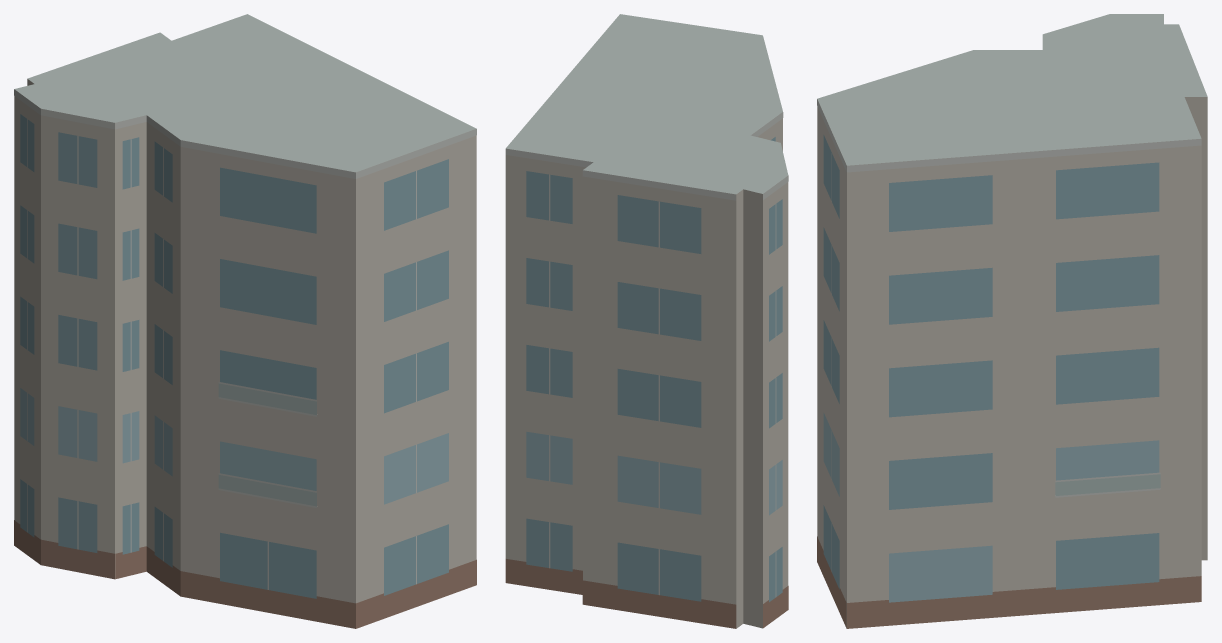
Rendered from survey-upis-32487843.glb.
3 views of the same model, side by side, from view 1: azimuth 30°, elevation 25°; view 2: azimuth 150°, elevation 25°; view 3: azimuth 270°, elevation 25° (orthographic). The views are drawn at different scales.
Parts seen in each view (by area): view 1: survey-upis-32487843.tmp; view 2: survey-upis-32487843.tmp; view 3: survey-upis-32487843.tmp.
Boxes of the visible parts, x1,y1,x2,y2 form: survey-upis-32487843.tmp: [14, 14, 476, 628]; survey-upis-32487843.tmp: [505, 14, 788, 628]; survey-upis-32487843.tmp: [817, 14, 1207, 628].
Size of the model in its own units: 11.75 by 16.7 by 12.78.
